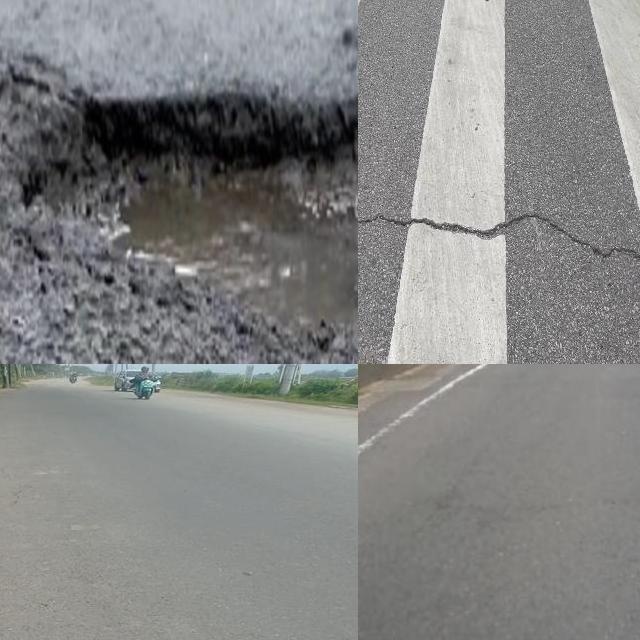Lubang: (27, 98, 358, 338)
Melintang: (358, 197, 640, 278)
